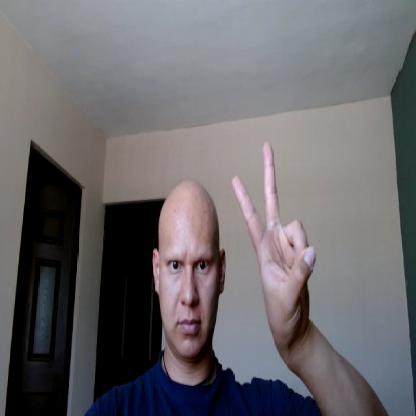V: (231, 142, 319, 339)
